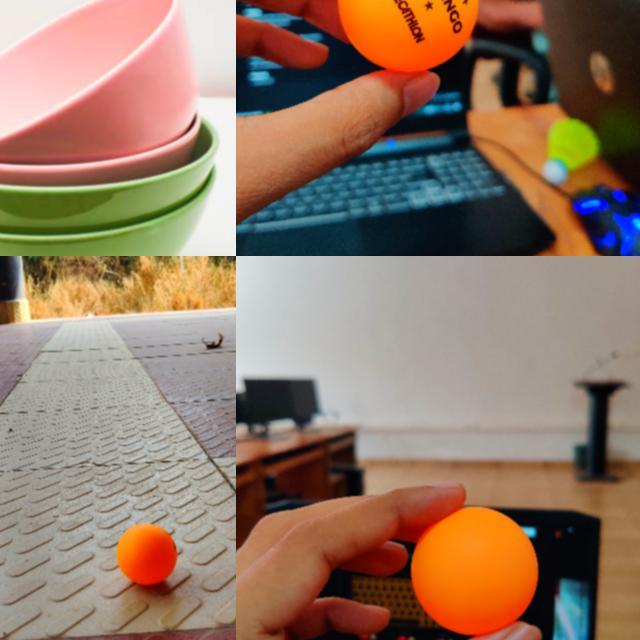ping-pong-ball: (408, 508, 538, 636), (337, 0, 482, 72), (116, 524, 176, 584)
